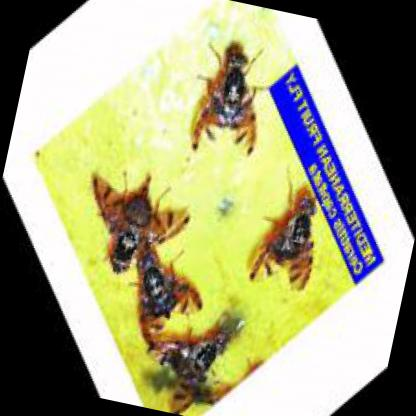fruit fly: (134, 249, 206, 352), (190, 46, 256, 156), (248, 199, 315, 291)
